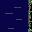Interaction: (26, 0, 32, 32)
Slow: (0, 0, 27, 32)
